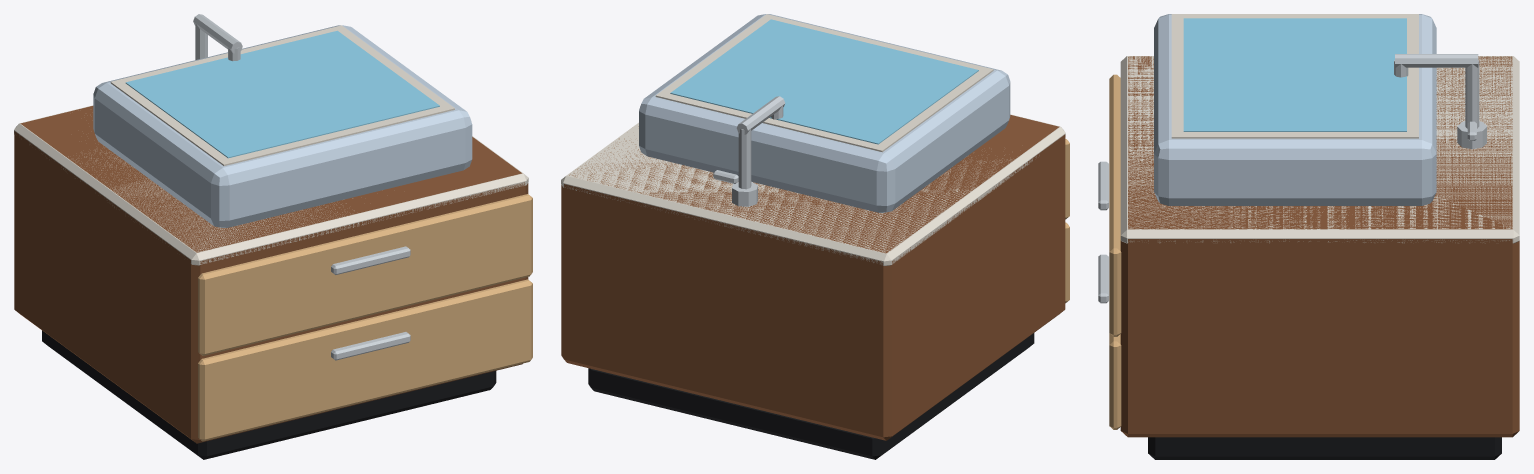
The model's file is sink_square.glb.
3 renders of one model, left to right at view 1: azimuth 30°, elevation 25°; view 2: azimuth 150°, elevation 25°; view 3: azimuth 270°, elevation 25°, orthographic. The views are drawn at different scales.
Parts seen in each view (by area): view 1: sink_square_Body; view 2: sink_square_Body; view 3: sink_square_Body.
Part boxes in pixels (bbox=[...]): sink_square_Body: bbox=[14, 14, 532, 459]; sink_square_Body: bbox=[561, 14, 1069, 459]; sink_square_Body: bbox=[1098, 14, 1519, 459].
Bounding box in the file's own units: 0.7 × 0.6 × 0.696.
